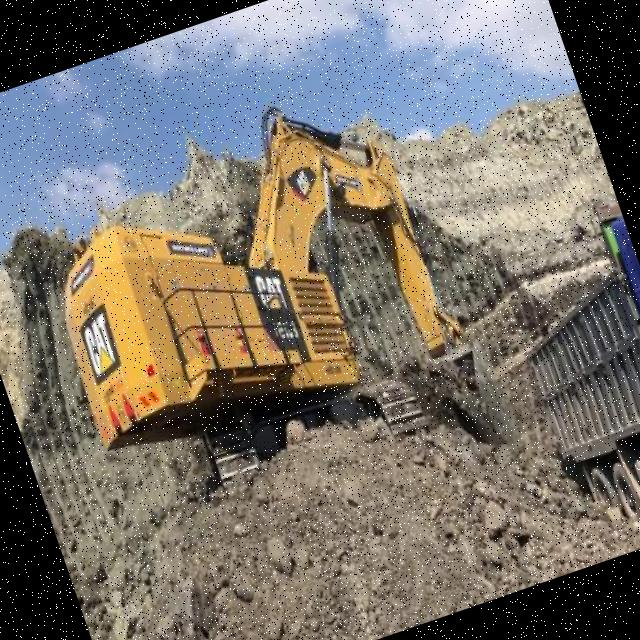Dump Truck: (484, 205, 640, 564)
Excavator: (16, 66, 515, 566)
